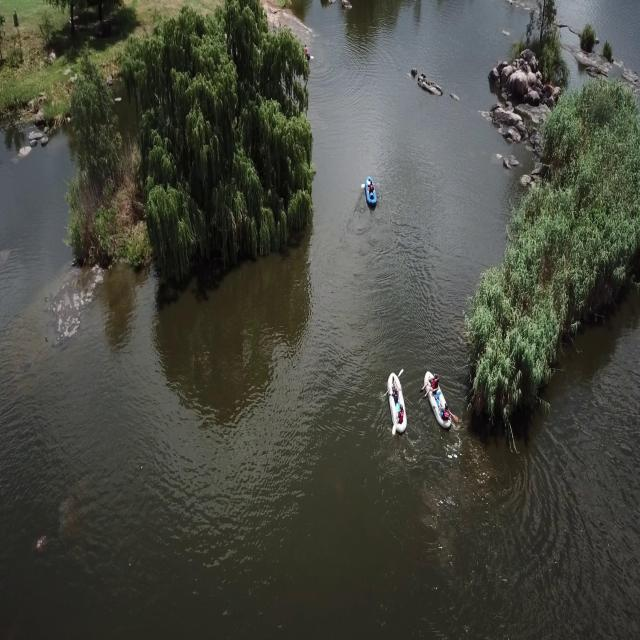kayak: (418, 366, 458, 430), (382, 371, 413, 440), (363, 173, 379, 214)
